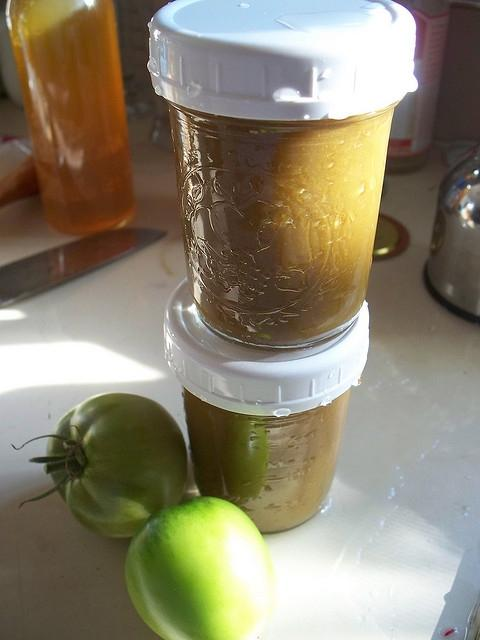tomato: (11, 392, 190, 538), (124, 496, 278, 640)
